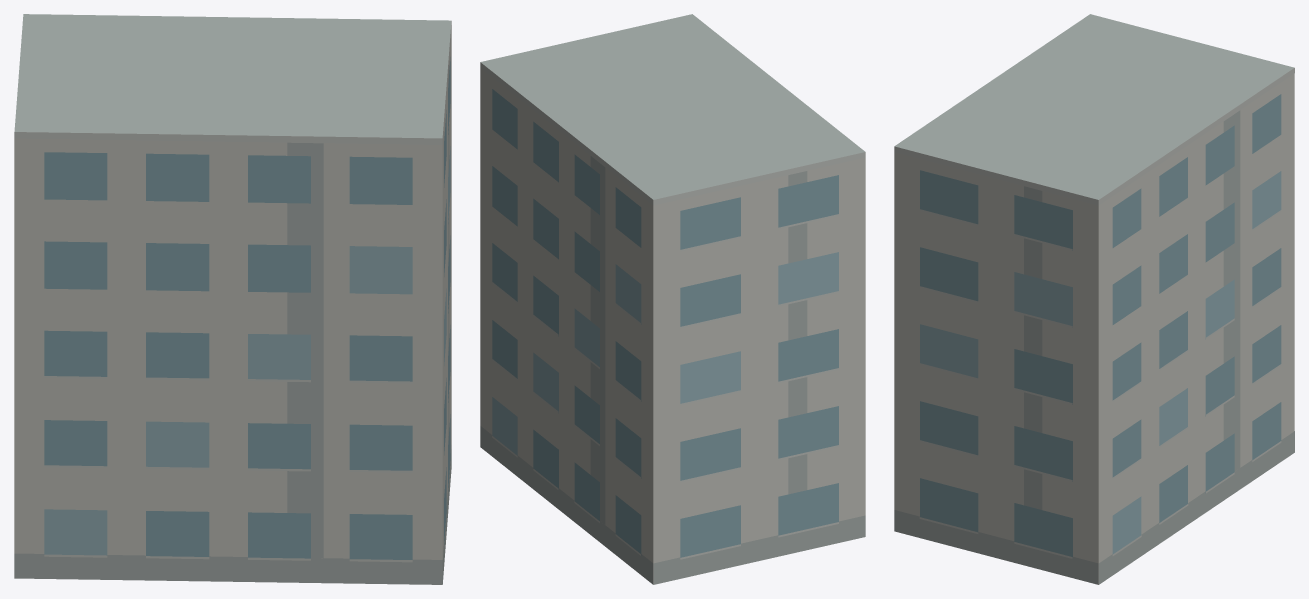
Rendered from survey-upis-32893484.glb.
3 views of the same model, side by side, from view 1: azimuth 30°, elevation 25°; view 2: azimuth 150°, elevation 25°; view 3: azimuth 270°, elevation 25° (orthographic). The views are drawn at different scales.
Visible parts, largest first — view 1: survey-upis-32893484.tmp; view 2: survey-upis-32893484.tmp; view 3: survey-upis-32893484.tmp.
Boxes of the visible parts, box(x1,y1,x2,y2) form: survey-upis-32893484.tmp: box(14, 14, 451, 584); survey-upis-32893484.tmp: box(480, 14, 865, 584); survey-upis-32893484.tmp: box(894, 14, 1294, 584).
Size of the model in its own units: 16.84 by 16.25 by 15.33.
